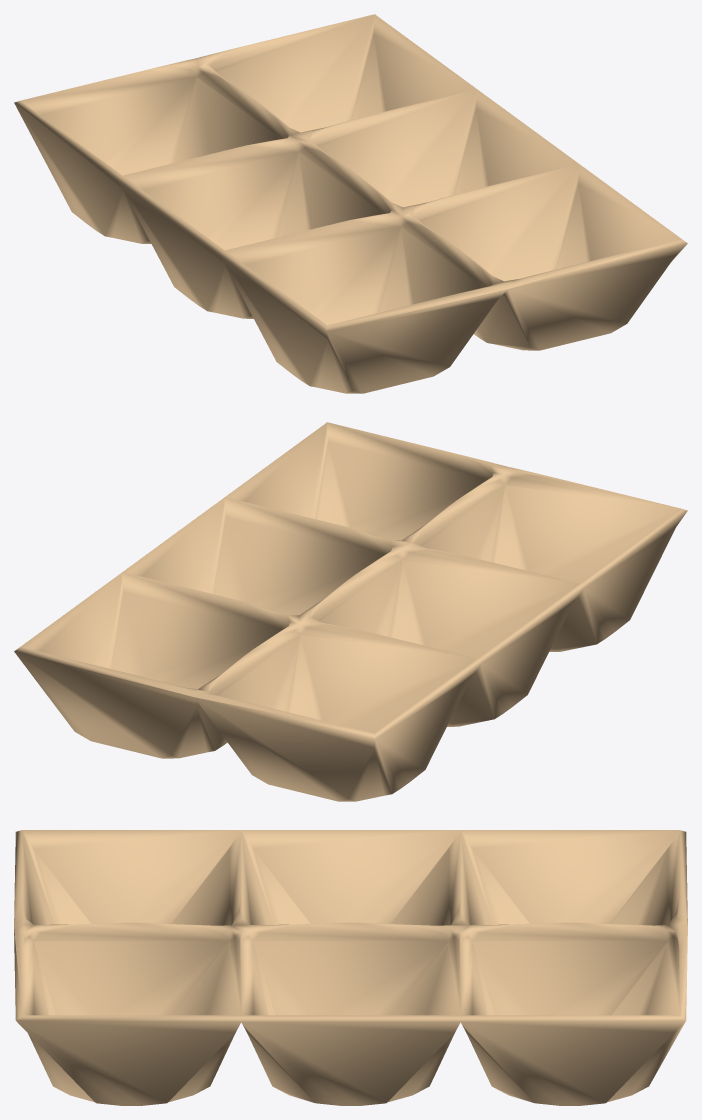
The model's file is BoiteOeuf.fbx.
3 renders of one model, top to bottom at view 1: azimuth 30°, elevation 25°; view 2: azimuth 150°, elevation 25°; view 3: azimuth 270°, elevation 25°, orthographic. The views are drawn at different scales.
Parts seen in each view (by area): view 1: Plane; view 2: Plane; view 3: Plane.
Boxes of the visible parts, <box> form: Plane: <box>14,14,687,393</box>; Plane: <box>14,422,687,801</box>; Plane: <box>14,830,687,1105</box>.
Bounding box in the file's own units: 20 × 5 × 30.
